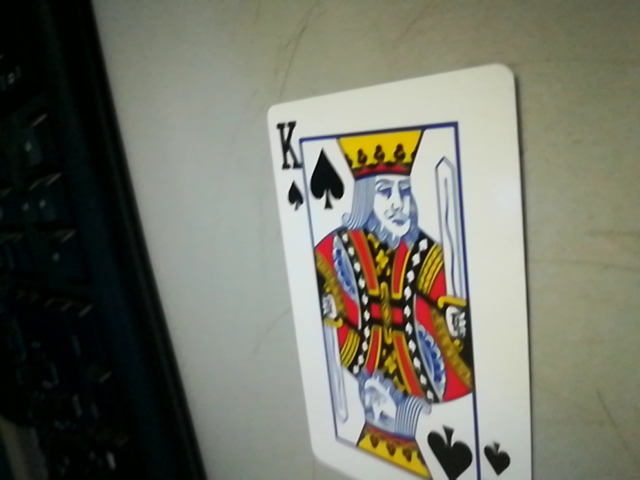ht k: (270, 114, 312, 209)
